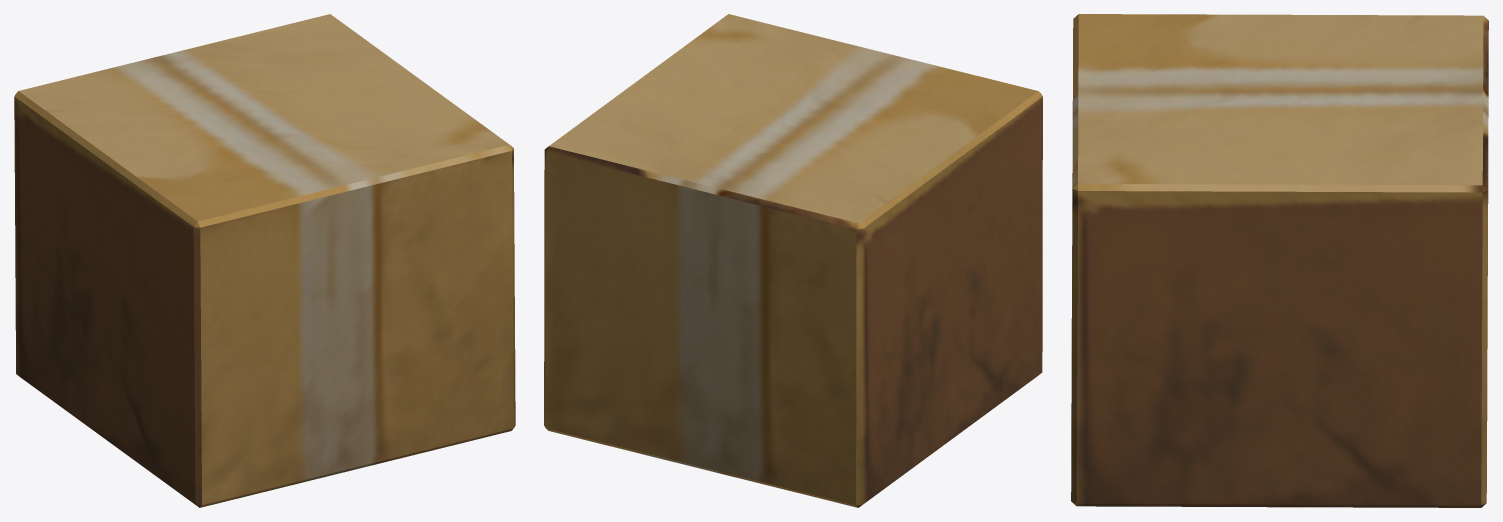
The model's file is W_Cardboard_Box2.fbx.
The picture shows the model from 3 angles, left to right: view 1: azimuth 30°, elevation 25°; view 2: azimuth 150°, elevation 25°; view 3: azimuth 270°, elevation 25°; orthographic projection. The views are drawn at different scales.
Visible parts, largest first — view 1: Cube.001; view 2: Cube.001; view 3: Cube.001.
Part boxes in pixels (left/top/right/bottom): Cube.001: left=14, top=14, right=515, bottom=507; Cube.001: left=544, top=14, right=1042, bottom=507; Cube.001: left=1071, top=14, right=1488, bottom=507.
Size of the model in its own units: 0.3964 by 0.3399 by 0.3963.
